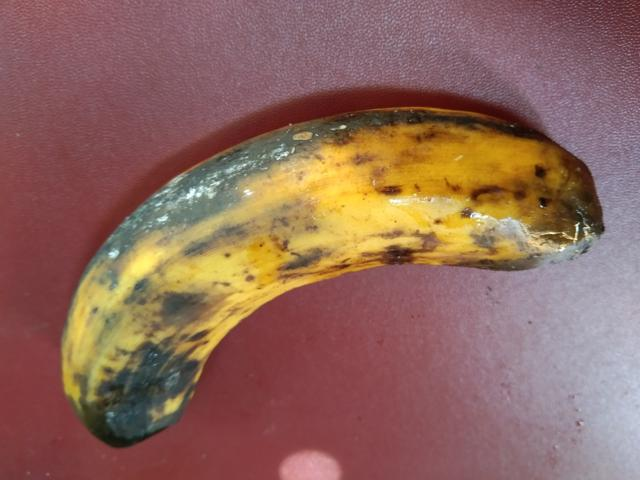rotten: (44, 81, 605, 465)
